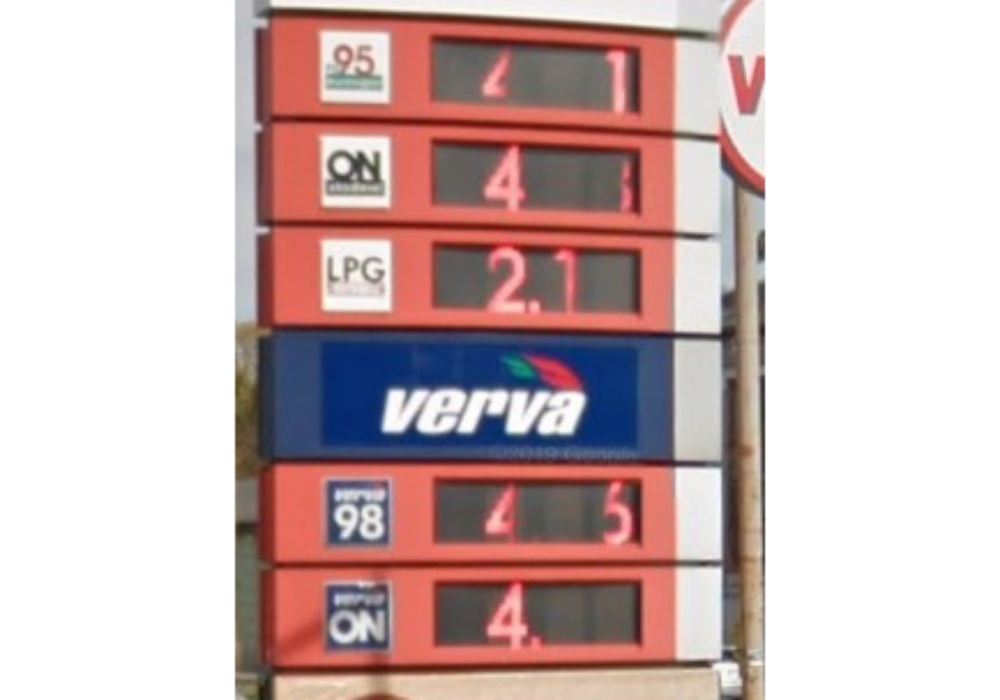LPG: (316, 233, 394, 314)
ON: (316, 130, 394, 213), (321, 576, 394, 650)
PB95: (316, 28, 391, 108)
PB98: (323, 477, 393, 547)
